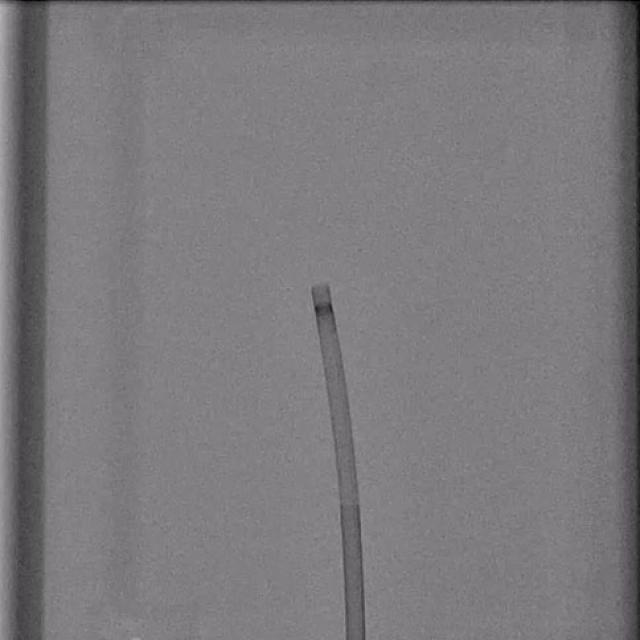bend: (339, 495, 359, 504)
entry: (346, 634, 366, 640)
marker: (313, 304, 335, 316)
tip: (312, 284, 330, 292)
